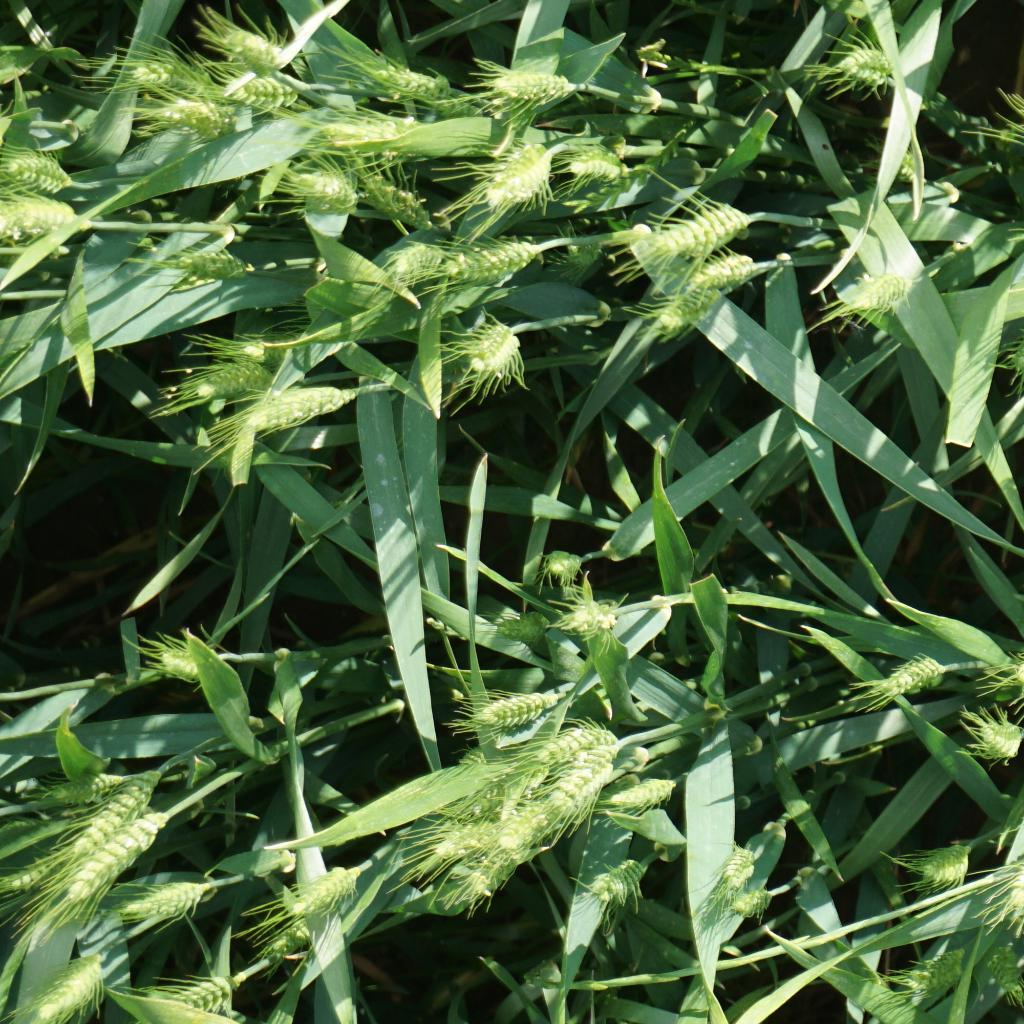0-0: (56, 801, 178, 903), (499, 757, 605, 864), (424, 797, 566, 867), (69, 764, 158, 865), (229, 375, 359, 438), (651, 247, 751, 323), (641, 196, 748, 267), (15, 949, 115, 1024), (458, 806, 523, 908), (485, 131, 564, 214), (542, 739, 620, 821), (161, 360, 297, 403), (147, 77, 235, 140), (896, 934, 987, 994), (302, 112, 434, 153), (445, 232, 546, 285), (211, 323, 329, 368), (286, 854, 368, 918), (829, 269, 927, 320), (266, 905, 351, 963), (162, 969, 249, 1022), (473, 675, 556, 729), (0, 844, 94, 891), (349, 172, 430, 225), (110, 877, 211, 918), (541, 722, 613, 778), (201, 23, 287, 69), (874, 652, 954, 701), (43, 773, 148, 808), (160, 248, 253, 286), (593, 848, 653, 906), (492, 64, 585, 101), (461, 321, 523, 376), (382, 240, 465, 281), (0, 151, 69, 200), (287, 167, 361, 212), (0, 196, 79, 238), (912, 837, 977, 887), (867, 136, 929, 187), (147, 636, 207, 684), (604, 776, 686, 811), (562, 146, 630, 187), (364, 65, 456, 95), (985, 941, 1024, 1010), (837, 39, 894, 86), (488, 607, 556, 646), (137, 53, 205, 92), (558, 598, 622, 637), (237, 73, 304, 110), (971, 717, 1024, 760), (553, 231, 604, 274), (729, 883, 777, 926), (723, 847, 759, 888), (542, 549, 584, 580)
